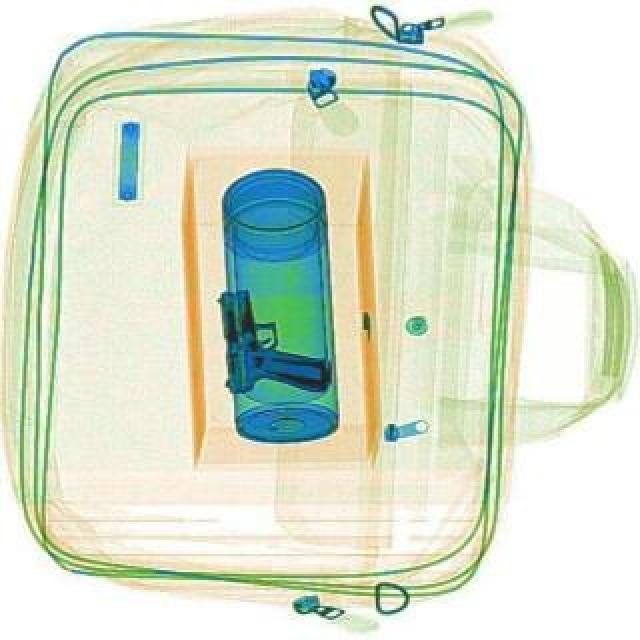gun: (208, 276, 332, 402)
